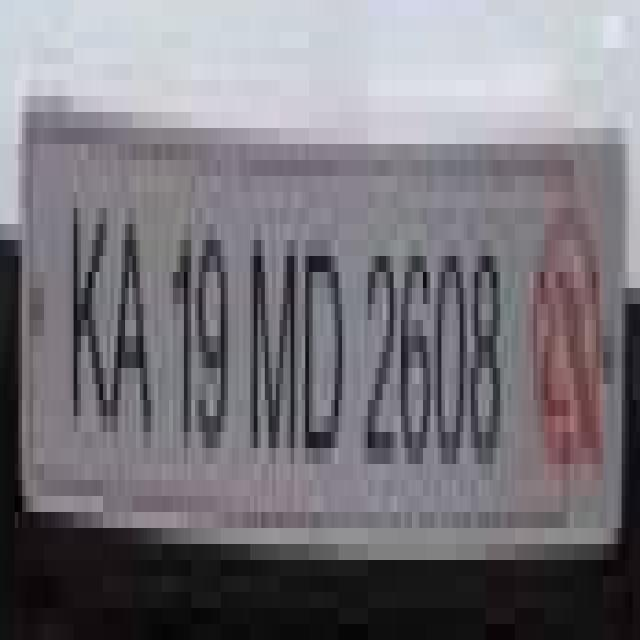license_plate: (7, 64, 607, 576)
